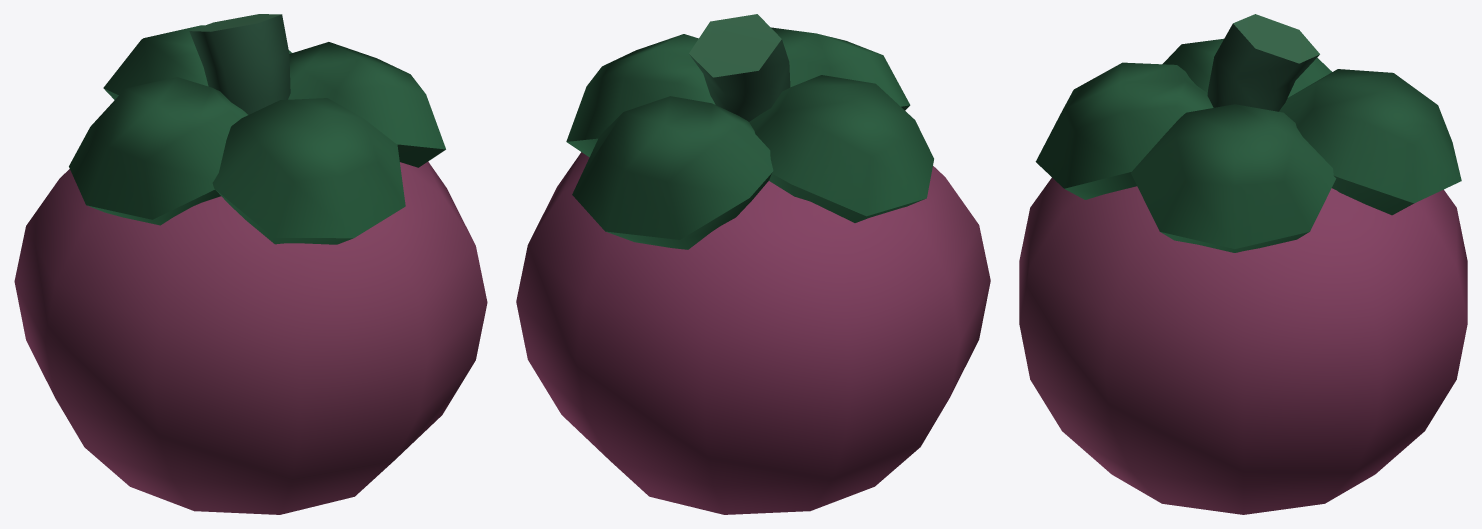
The model's file is SM_Fruits_Mangostan_1.glb.
3 views of the same model, side by side, from view 1: azimuth 30°, elevation 25°; view 2: azimuth 150°, elevation 25°; view 3: azimuth 270°, elevation 25° (orthographic).
Visible parts, largest first — view 1: geometry_0; view 2: geometry_0; view 3: geometry_0.
Boxes of the visible parts, x1,y1,x2,y2 form: geometry_0: [14, 14, 487, 514]; geometry_0: [516, 14, 990, 514]; geometry_0: [1019, 14, 1467, 514].
Size of the model in its own units: 0.1092 by 0.1195 by 0.1039.
1 material, 1 textured.
